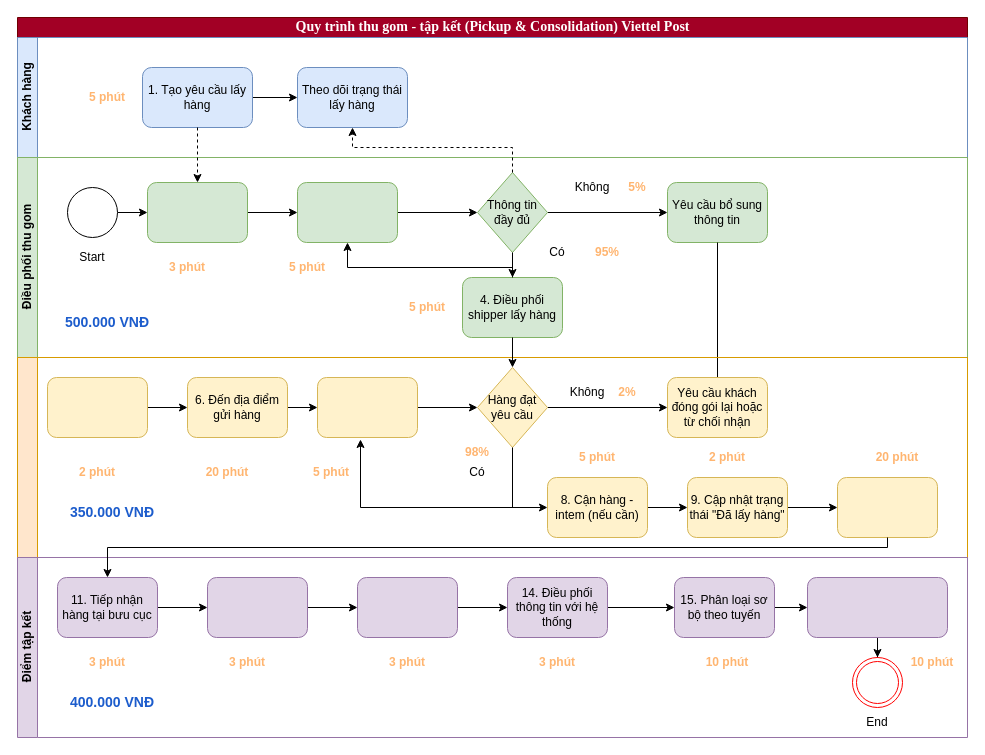
Image size: 985x755. Some labels were removed from this diagram. The shapes that lost their labels are listed below. From the top down, each one's box as (x1, y1, x2, y2) in pixels, then its label:
(146, 182, 248, 242): 2. Tiếp nhận yêu cầu
(296, 182, 398, 242): 3. Kiểm tra thông tin đơn hàng
(46, 376, 148, 438): 5. Nhận nhiệm vụ lấy hàng
(316, 376, 418, 438): 7. Kiểm tra hàng hóa, cần sơ bộ
(16, 356, 968, 558): Shipper
(836, 476, 938, 538): 10. Chở hàng về bưu cục
(206, 576, 308, 638): 12. Quét mã vận đơn
(356, 576, 458, 638): 13. Cân trọng lượng chính xác
(806, 576, 948, 638): 16. Sắp xếp chờ chuyển lên trung tâm khai thác
